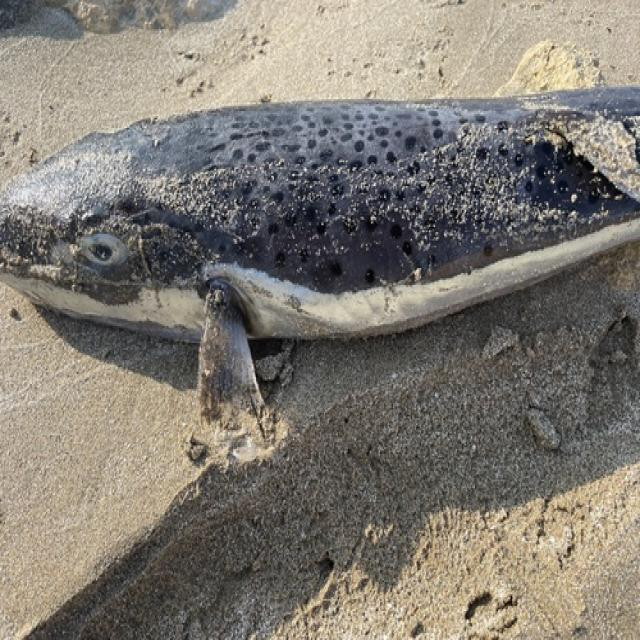Balik: (0, 88, 639, 421)
